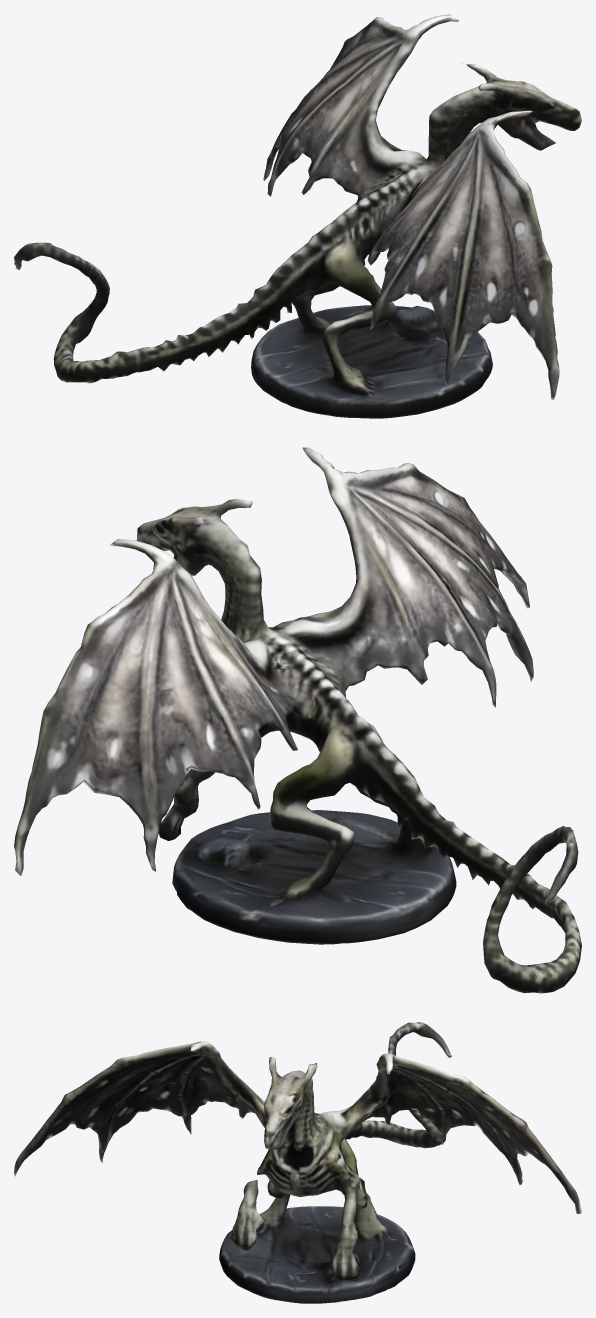
The model's file is zombiedragon.glb.
The picture shows the model from 3 angles, top to bottom: view 1: azimuth 30°, elevation 25°; view 2: azimuth 150°, elevation 25°; view 3: azimuth 270°, elevation 25°; orthographic projection. The views are drawn at different scales.
Visible parts, largest first — view 1: lagrange_node; view 2: lagrange_node; view 3: lagrange_node.
Part boxes in pixels (x1=…): lagrange_node: x1=14, y1=14, x2=581, y2=418; lagrange_node: x1=14, y1=447, x2=581, y2=993; lagrange_node: x1=14, y1=1022, x2=581, y2=1303.
Bounding box in the file's own units: 1.52 × 0.9335 × 1.92.
Materials: 1 (1 with a texture image).
